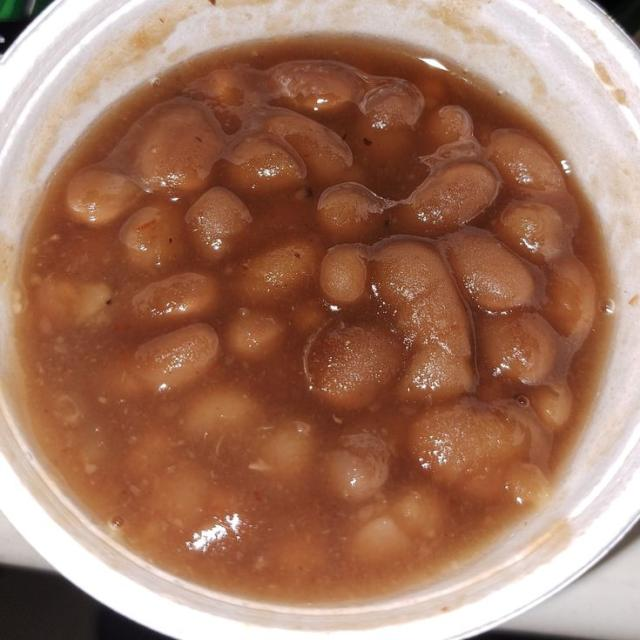beans: (370, 239, 475, 400), (370, 239, 470, 352), (409, 400, 529, 486), (116, 99, 223, 193), (305, 325, 401, 409), (396, 161, 498, 235), (447, 229, 538, 311), (347, 79, 424, 170), (477, 313, 564, 384), (265, 113, 352, 183), (134, 323, 218, 391), (268, 61, 363, 114), (238, 240, 319, 302), (487, 129, 564, 193), (543, 255, 596, 347), (186, 187, 251, 260), (181, 384, 262, 442), (494, 202, 568, 264), (227, 133, 306, 191), (398, 342, 475, 401), (67, 166, 142, 225), (147, 463, 210, 530), (327, 433, 389, 501), (120, 205, 184, 269), (317, 183, 386, 242), (132, 273, 218, 319), (37, 277, 111, 326), (259, 421, 316, 481), (186, 65, 262, 109), (361, 79, 424, 131), (225, 308, 284, 360), (391, 486, 448, 539), (320, 245, 367, 304), (351, 517, 410, 563), (423, 106, 472, 152), (527, 383, 572, 430), (505, 462, 550, 506), (291, 299, 330, 335)
